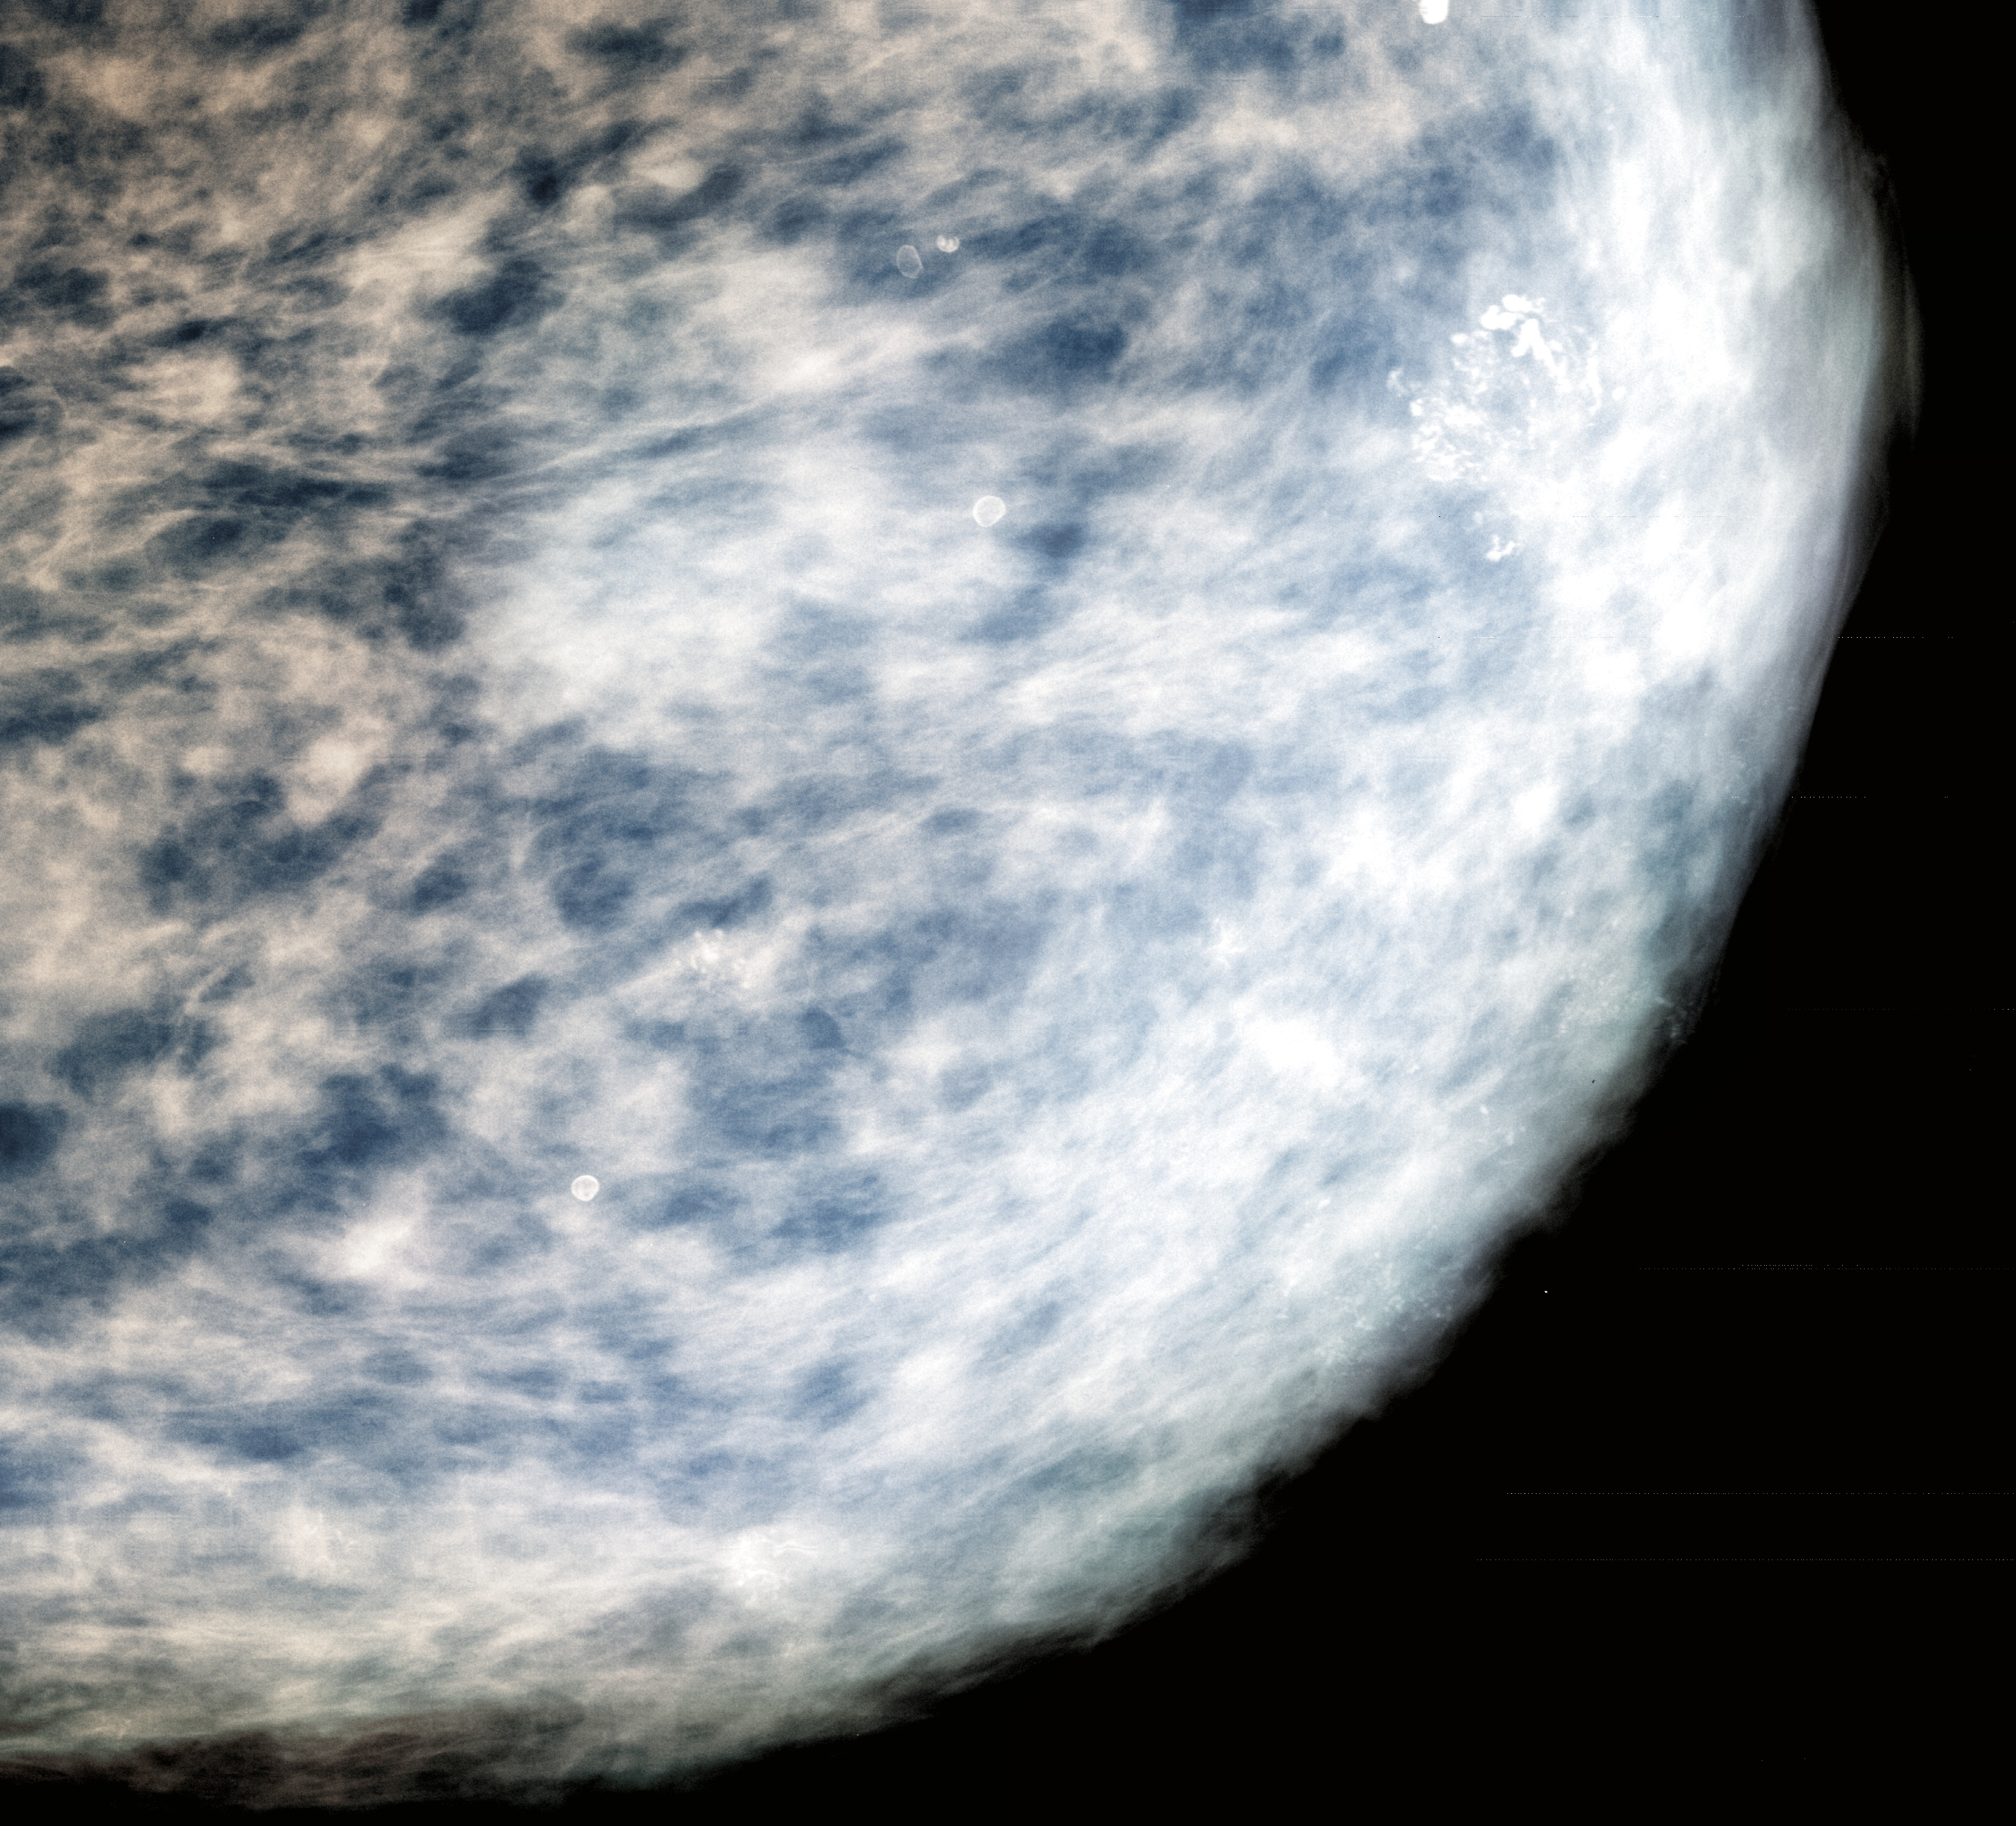tumor: (1004, 0, 2016, 1536), (195, 1391, 448, 1680), (592, 815, 855, 1083), (659, 1440, 904, 1721), (0, 1624, 202, 1826)
